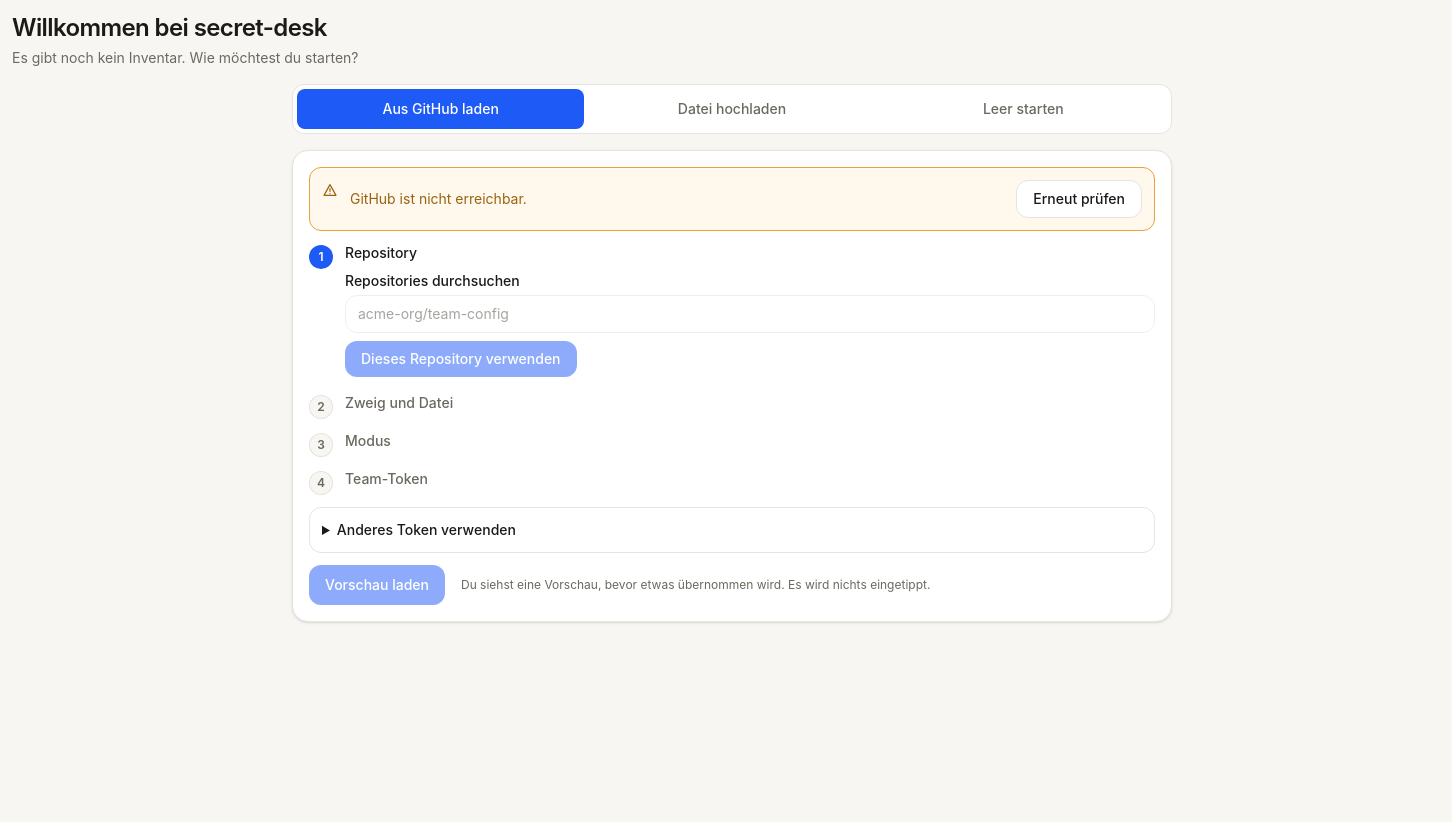
Test case: Setup page: start empty › dismisses the setup and offers to continue
Click the radio button labelled "Leer starten".
click(1023, 109)  # box [880,89,1167,129]
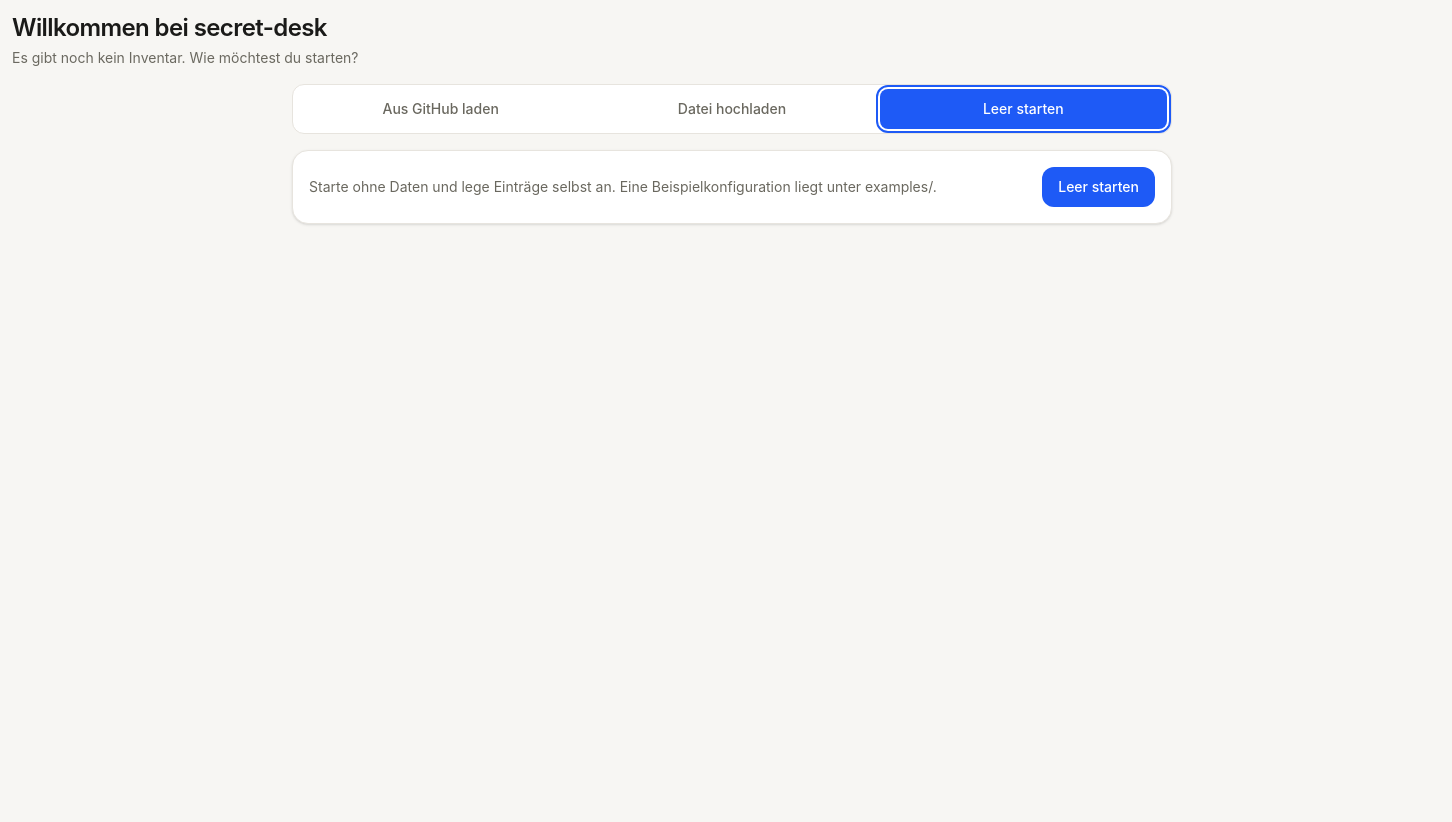
Click the button "Leer starten".
click(1099, 187)  # box [1042,167,1155,207]
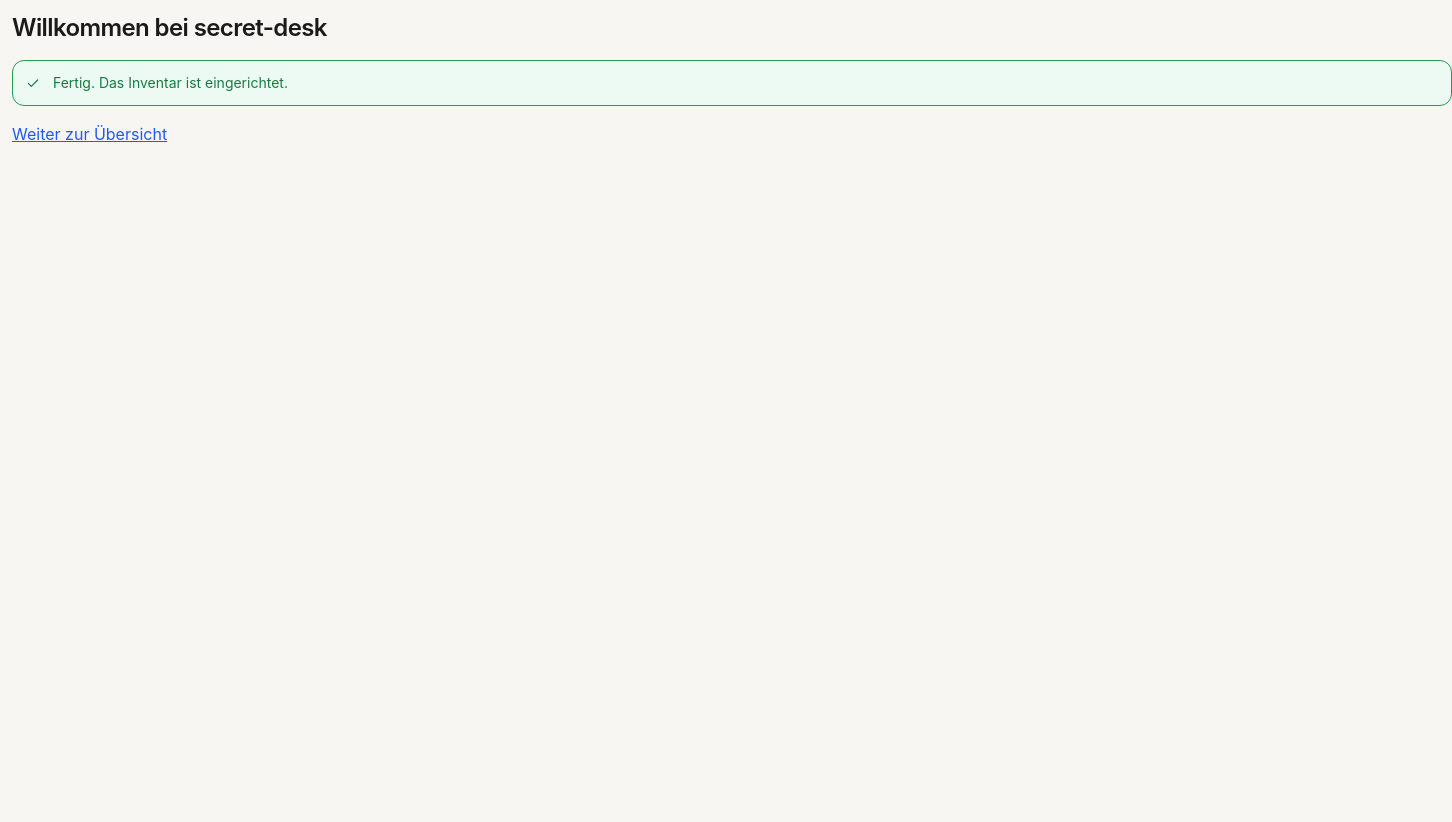
Check: the text "Fertig. Das Inventar ist eingerichtet." is shown, box [53,74,288,91]
